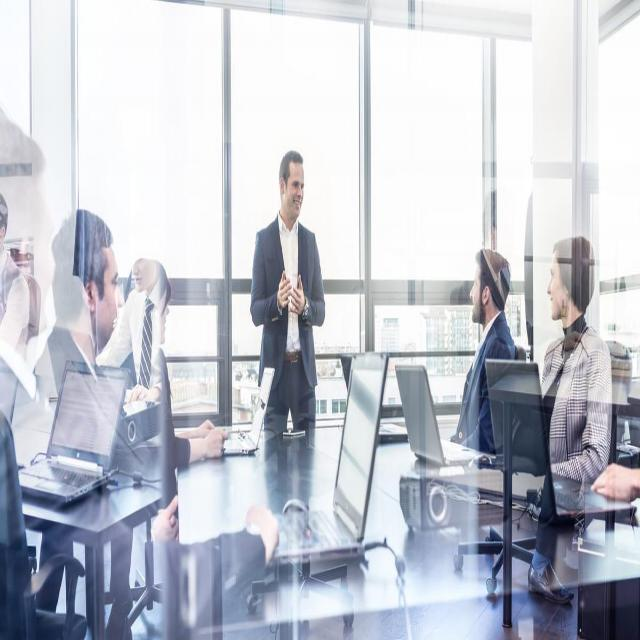person: (234, 118, 344, 518), (544, 202, 615, 559), (49, 179, 125, 494), (456, 207, 526, 468), (131, 222, 180, 488)
